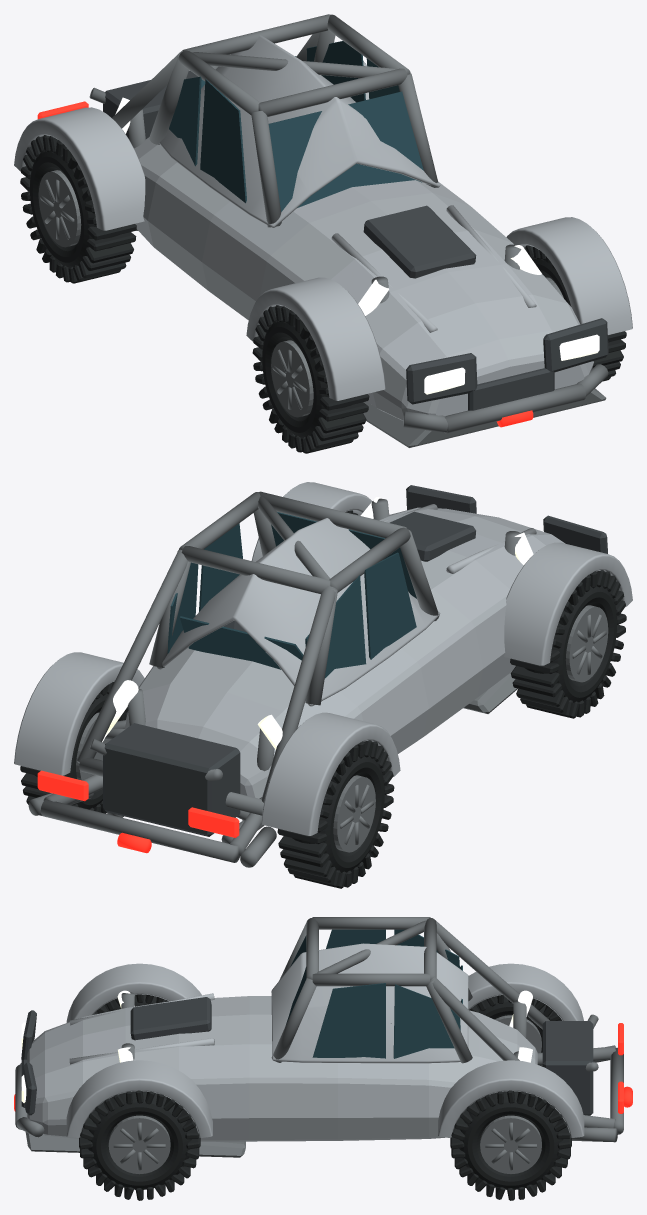
The model's file is desert_stallion_v3_blockout.glb.
3 renders of one model, top to bottom at view 1: azimuth 30°, elevation 25°; view 2: azimuth 150°, elevation 25°; view 3: azimuth 270°, elevation 25°, orthographic. The views are drawn at different scales.
Visible parts, largest first — view 1: V3_BodyShell, V3_MuscularFenders, V3_FunctionalDetails, V3_RollCage, V3_Glass, V3_CanopyFrame, Wheel_FL_Geometry, Wheel_RL_Geometry, V3_UnderbodySkid, V3_VisibleSuspension, Wheel_FR_Geometry; view 2: V3_BodyShell, V3_FunctionalDetails, V3_MuscularFenders, V3_RollCage, V3_CanopyFrame, V3_Glass, Wheel_FL_Geometry, Wheel_RL_Geometry, V3_VisibleSuspension, Wheel_RR_Geometry, V3_UnderbodySkid; view 3: V3_BodyShell, V3_MuscularFenders, V3_FunctionalDetails, V3_RollCage, Wheel_FR_Geometry, Wheel_RR_Geometry, V3_Glass, V3_CanopyFrame, V3_UnderbodySkid, Wheel_RL_Geometry, V3_VisibleSuspension, Wheel_FL_Geometry.
Part boxes in pixels (x1,y1,x2,y2): V3_BodyShell: (134, 137, 593, 420); V3_MuscularFenders: (14, 56, 632, 400); V3_FunctionalDetails: (37, 65, 608, 433); V3_RollCage: (112, 14, 438, 227); V3_Glass: (169, 41, 423, 211); V3_CanopyFrame: (159, 35, 440, 227); Wheel_FL_Geometry: (252, 305, 369, 453); Wheel_RL_Geometry: (20, 135, 136, 283); V3_UnderbodySkid: (363, 388, 606, 447); V3_VisibleSuspension: (115, 97, 541, 315); Wheel_FR_Geometry: (524, 245, 626, 381); V3_BodyShell: (124, 507, 564, 798); V3_FunctionalDetails: (28, 485, 607, 867); V3_MuscularFenders: (14, 482, 632, 835); V3_RollCage: (76, 491, 439, 815); V3_CanopyFrame: (157, 518, 440, 706); V3_Glass: (167, 512, 416, 678); Wheel_FL_Geometry: (510, 570, 626, 718); Wheel_RL_Geometry: (277, 740, 394, 888); V3_VisibleSuspension: (102, 497, 533, 843); Wheel_RR_Geometry: (20, 681, 128, 815); V3_UnderbodySkid: (463, 672, 517, 713); V3_BodyShell: (27, 996, 537, 1141); V3_MuscularFenders: (66, 963, 584, 1137); V3_FunctionalDetails: (14, 993, 632, 1142); V3_RollCage: (271, 917, 549, 1063); Wheel_FR_Geometry: (79, 1090, 200, 1200); Wheel_RR_Geometry: (450, 1090, 571, 1200); V3_Glass: (286, 929, 462, 1058); V3_CanopyFrame: (271, 943, 468, 1063); V3_UnderbodySkid: (25, 1132, 245, 1157); Wheel_RL_Geometry: (469, 995, 562, 1066); V3_VisibleSuspension: (117, 990, 532, 1062); Wheel_FL_Geometry: (93, 994, 168, 1014).
Size of the model in its own units: 2.21 by 1.74 by 4.9.
